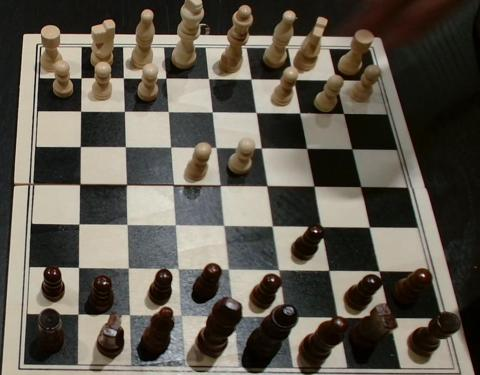xcorner: (299, 141, 314, 156), (70, 262, 85, 277), (345, 142, 360, 156), (287, 71, 301, 86), (265, 220, 279, 235), (226, 310, 240, 325), (157, 71, 172, 85), (122, 309, 136, 324), (120, 263, 135, 277), (71, 178, 85, 193), (71, 140, 86, 154), (384, 312, 398, 326), (373, 265, 387, 279), (363, 221, 377, 235), (354, 180, 368, 194), (337, 106, 351, 120), (330, 72, 344, 86), (331, 312, 345, 326), (322, 265, 336, 279), (314, 221, 328, 235), (307, 180, 321, 194), (293, 105, 307, 119), (278, 311, 292, 325), (272, 264, 286, 278), (259, 180, 273, 194), (254, 141, 268, 155), (248, 105, 262, 119), (243, 71, 257, 85), (221, 264, 235, 278), (216, 220, 230, 234), (212, 179, 226, 193), (208, 141, 222, 155), (204, 105, 218, 119), (200, 71, 214, 85), (174, 310, 188, 324), (171, 263, 185, 277), (168, 220, 182, 234), (165, 179, 179, 193), (162, 141, 176, 155), (160, 105, 174, 119), (119, 219, 133, 233), (118, 179, 132, 193), (117, 141, 131, 155), (116, 105, 130, 119), (115, 71, 129, 85), (70, 309, 84, 323), (71, 219, 85, 233), (72, 105, 86, 119), (72, 71, 86, 85)
